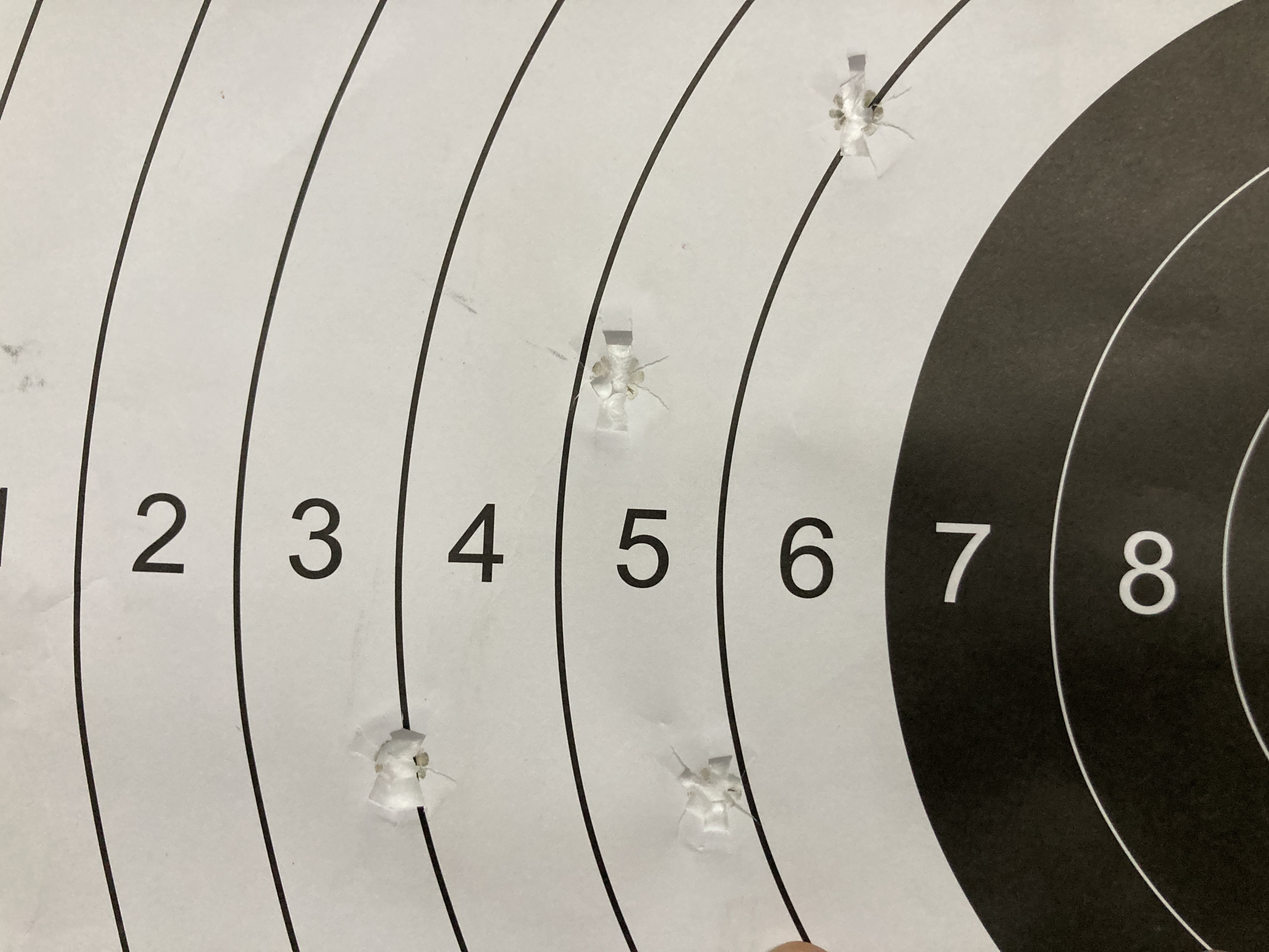hole: (677, 734, 787, 856), (349, 718, 478, 819), (812, 66, 903, 164), (582, 334, 664, 425)
